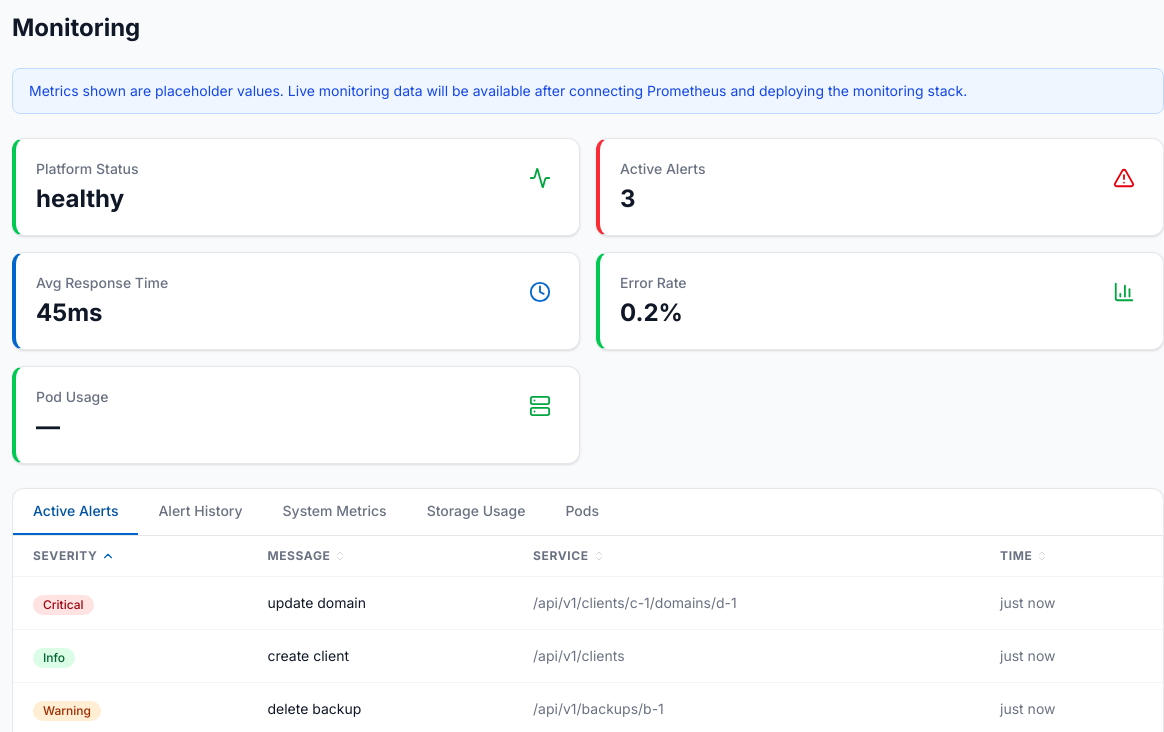
Monitoring page › switches to Alert History tab on click
Click the button with test id "tab-alert-history". click: (200, 512)
box: [138,489,262,535]
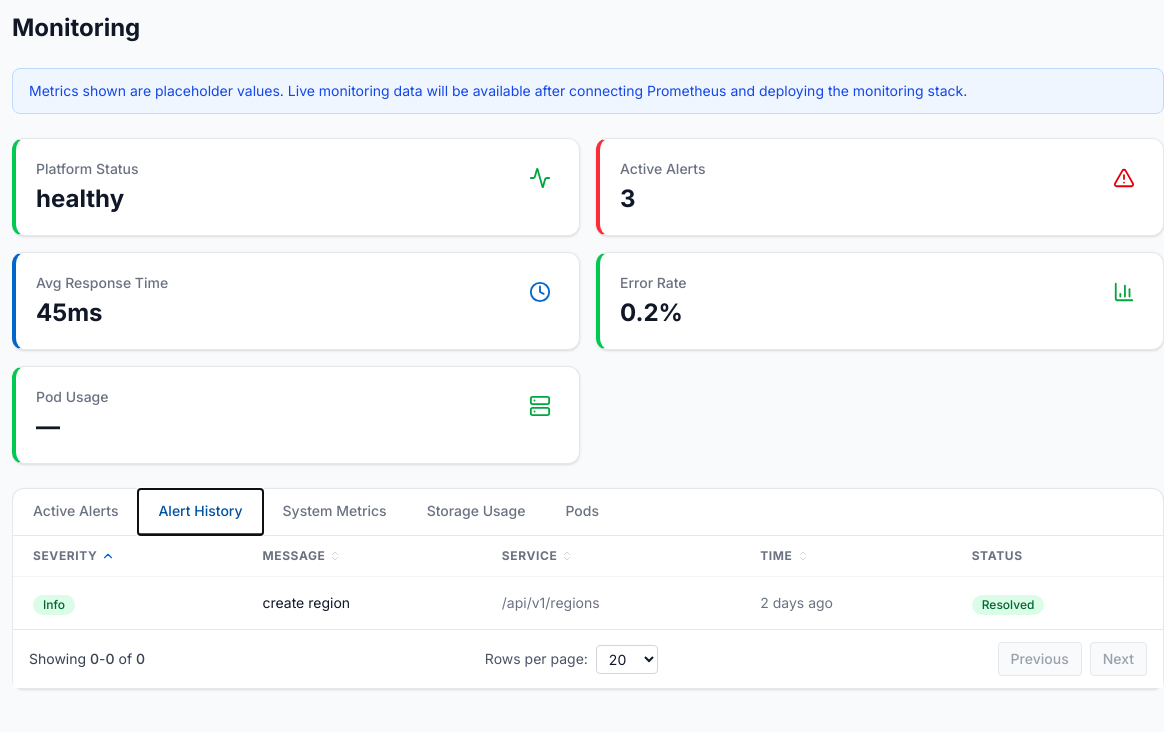
Now the text "create region" is shown, box [242,576,482,629]
